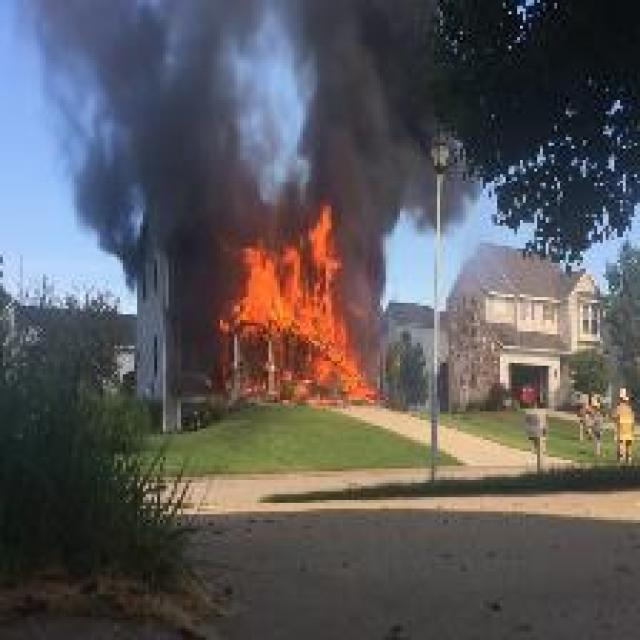Fire: (228, 206, 370, 388)
Smoke: (36, 0, 223, 308), (227, 1, 433, 210)
